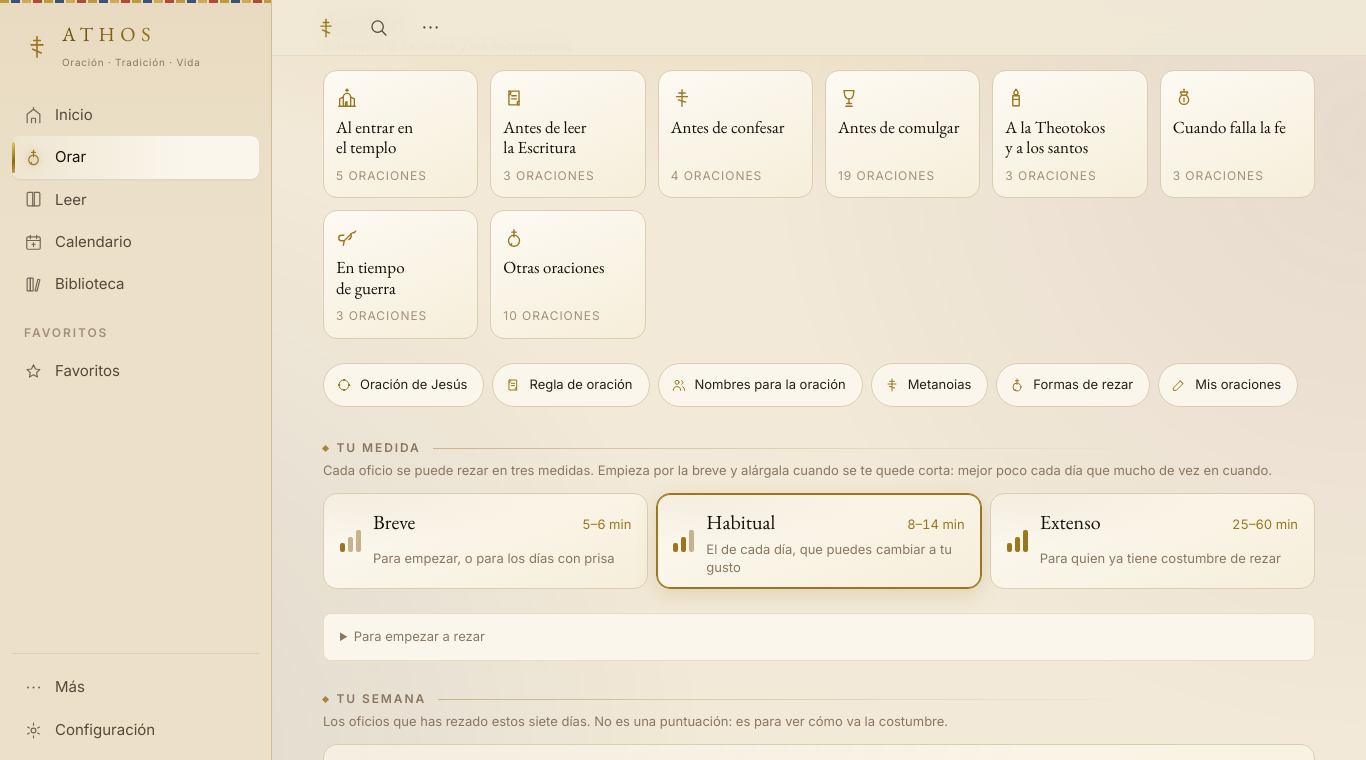
Scenario: armazón › se puede navegar de Orar a la regla
The width and height of the screenshot is (1366, 760).
(page scrolled)
Click the link "Regla de oración" at (571, 385), box [492,363,650,407]
(page scrolled)
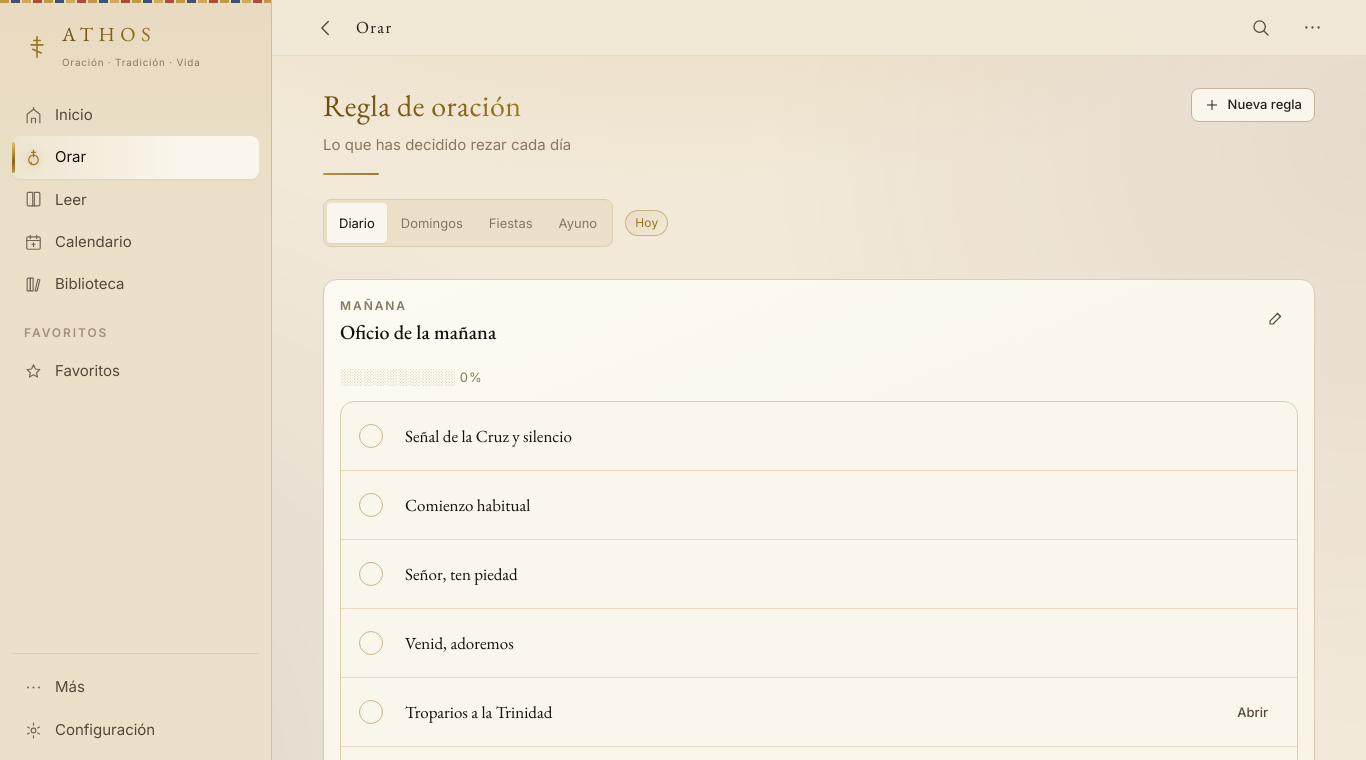
Check: the button "Diario" is shown, box [327,203,387,243]
